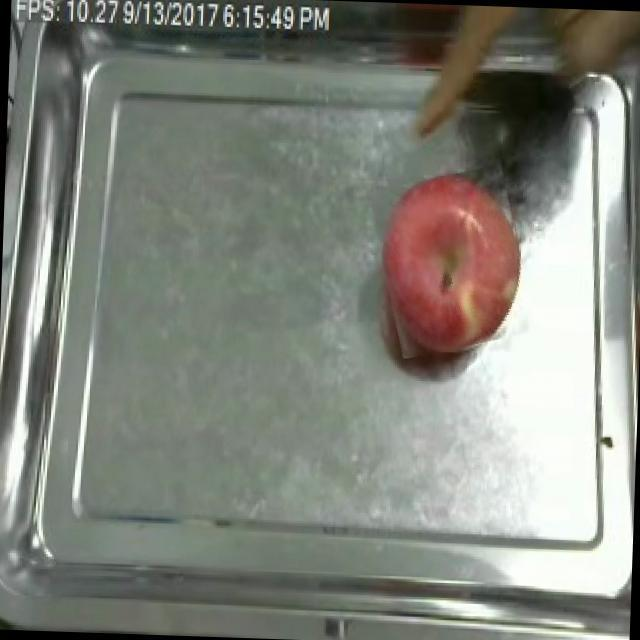apple: (382, 173, 521, 356)
